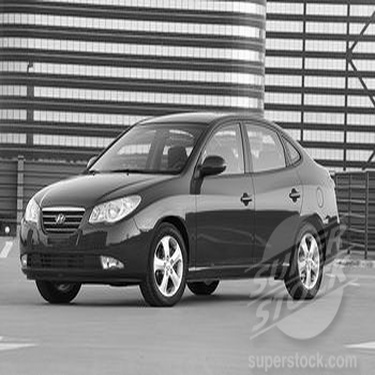car: (10, 106, 346, 310)
